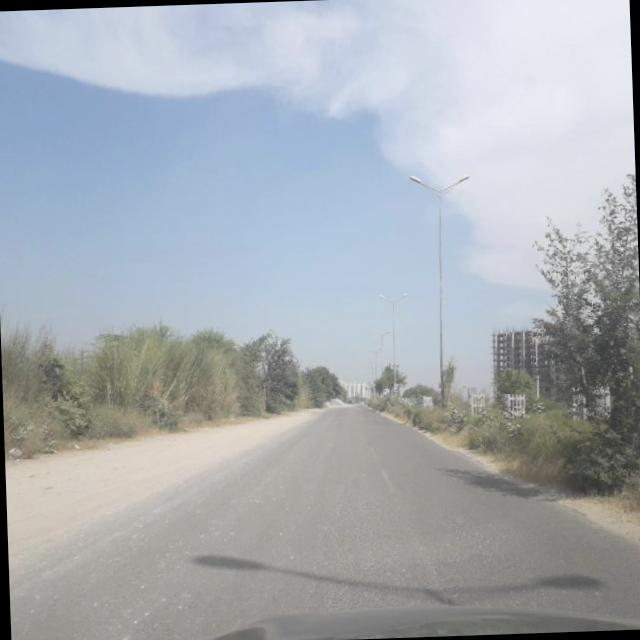crack: (186, 468, 577, 606)
